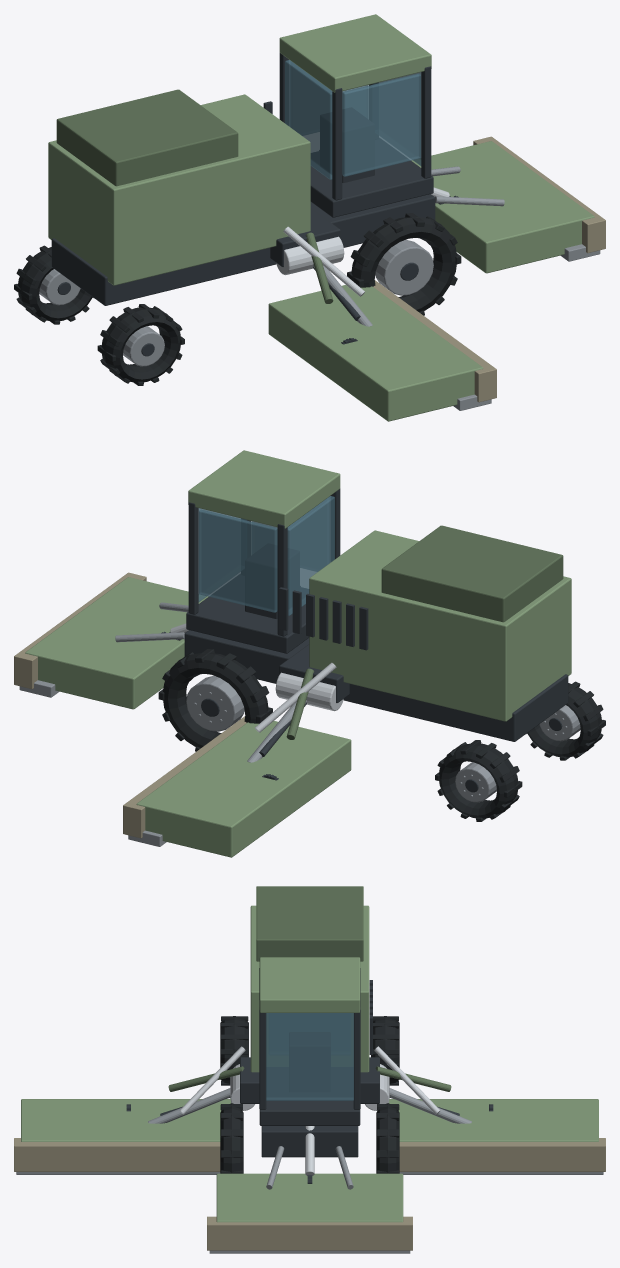
The model's file is krone-big-m-450-cv-structural-study.glb.
3 renders of one model, top to bottom at view 1: azimuth 30°, elevation 25°; view 2: azimuth 150°, elevation 25°; view 3: azimuth 270°, elevation 25°, orthographic. The views are drawn at different scales.
Visible parts, largest first — view 1: Mower_Power_Module, Deck_R_Wing, Front_Mower_Deck, Power_Module_Upper, Cab_Roof, Mower_Main_Frame, Cab_R_Glass, Cab_Floor, Front_R_Tire, Cab_Rear_Glass, Rear_R_Tire, Operator_Seat (+13 smaller); view 2: Mower_Power_Module, Deck_L_Wing, Front_Mower_Deck, Power_Module_Upper, Cab_Roof, Mower_Main_Frame, Cab_L_Glass, Cab_Floor, Front_L_Tire, Cab_Rear_Glass, Rear_L_Tire, Operator_Seat (+13 smaller); view 3: Front_Mower_Deck, Deck_R_Wing, Deck_L_Wing, Power_Module_Upper, Cab_Front_Glass, Deck_L_Flexible_Skirt, Deck_R_Flexible_Skirt, Front_Mower_Flexible_Skirt, Cab_Roof, Cab_Floor, Mower_Power_Module, Mower_Main_Frame (+17 smaller).
Part boxes in pixels (<box>): Mower_Power_Module: <box>48,94,310,285</box>; Deck_R_Wing: <box>268,285,483,421</box>; Front_Mower_Deck: <box>411,141,594,273</box>; Power_Module_Upper: <box>56,89,238,186</box>; Cab_Roof: <box>279,14,431,92</box>; Mower_Main_Frame: <box>51,194,435,305</box>; Cab_R_Glass: <box>342,73,420,176</box>; Cab_Floor: <box>310,138,433,217</box>; Front_R_Tire: <box>351,217,456,311</box>; Cab_Rear_Glass: <box>285,60,332,179</box>; Rear_R_Tire: <box>101,307,180,382</box>; Operator_Seat: <box>320,108,374,182</box>; Mower_Power_Module: <box>309,530,571,721</box>; Deck_L_Wing: <box>136,721,351,857</box>; Front_Mower_Deck: <box>25,577,208,709</box>; Power_Module_Upper: <box>381,525,563,622</box>; Cab_Roof: <box>188,450,340,528</box>; Mower_Main_Frame: <box>184,630,568,741</box>; Cab_L_Glass: <box>199,509,277,612</box>; Cab_Floor: <box>186,574,309,653</box>; Front_L_Tire: <box>163,653,268,747</box>; Cab_Rear_Glass: <box>287,496,334,615</box>; Rear_L_Tire: <box>439,743,518,818</box>; Operator_Seat: <box>245,544,299,618</box>; Front_Mower_Deck: <box>216,1173,403,1222</box>; Deck_R_Wing: <box>21,1099,230,1141</box>; Deck_L_Wing: <box>389,1099,598,1141</box>; Power_Module_Upper: <box>256,886,363,961</box>; Cab_Front_Glass: <box>266,1013,353,1100</box>; Deck_L_Flexible_Skirt: <box>399,1138,605,1171</box>; Deck_R_Flexible_Skirt: <box>14,1138,220,1171</box>; Front_Mower_Flexible_Skirt: <box>207,1216,412,1250</box>; Cab_Roof: <box>259,957,360,1012</box>; Cab_Floor: <box>259,1067,360,1125</box>; Mower_Power_Module: <box>250,905,369,1072</box>; Mower_Main_Frame: <box>261,1126,358,1157</box>.
Bounding box in the file's own units: 8.45 × 4 × 9.9.
